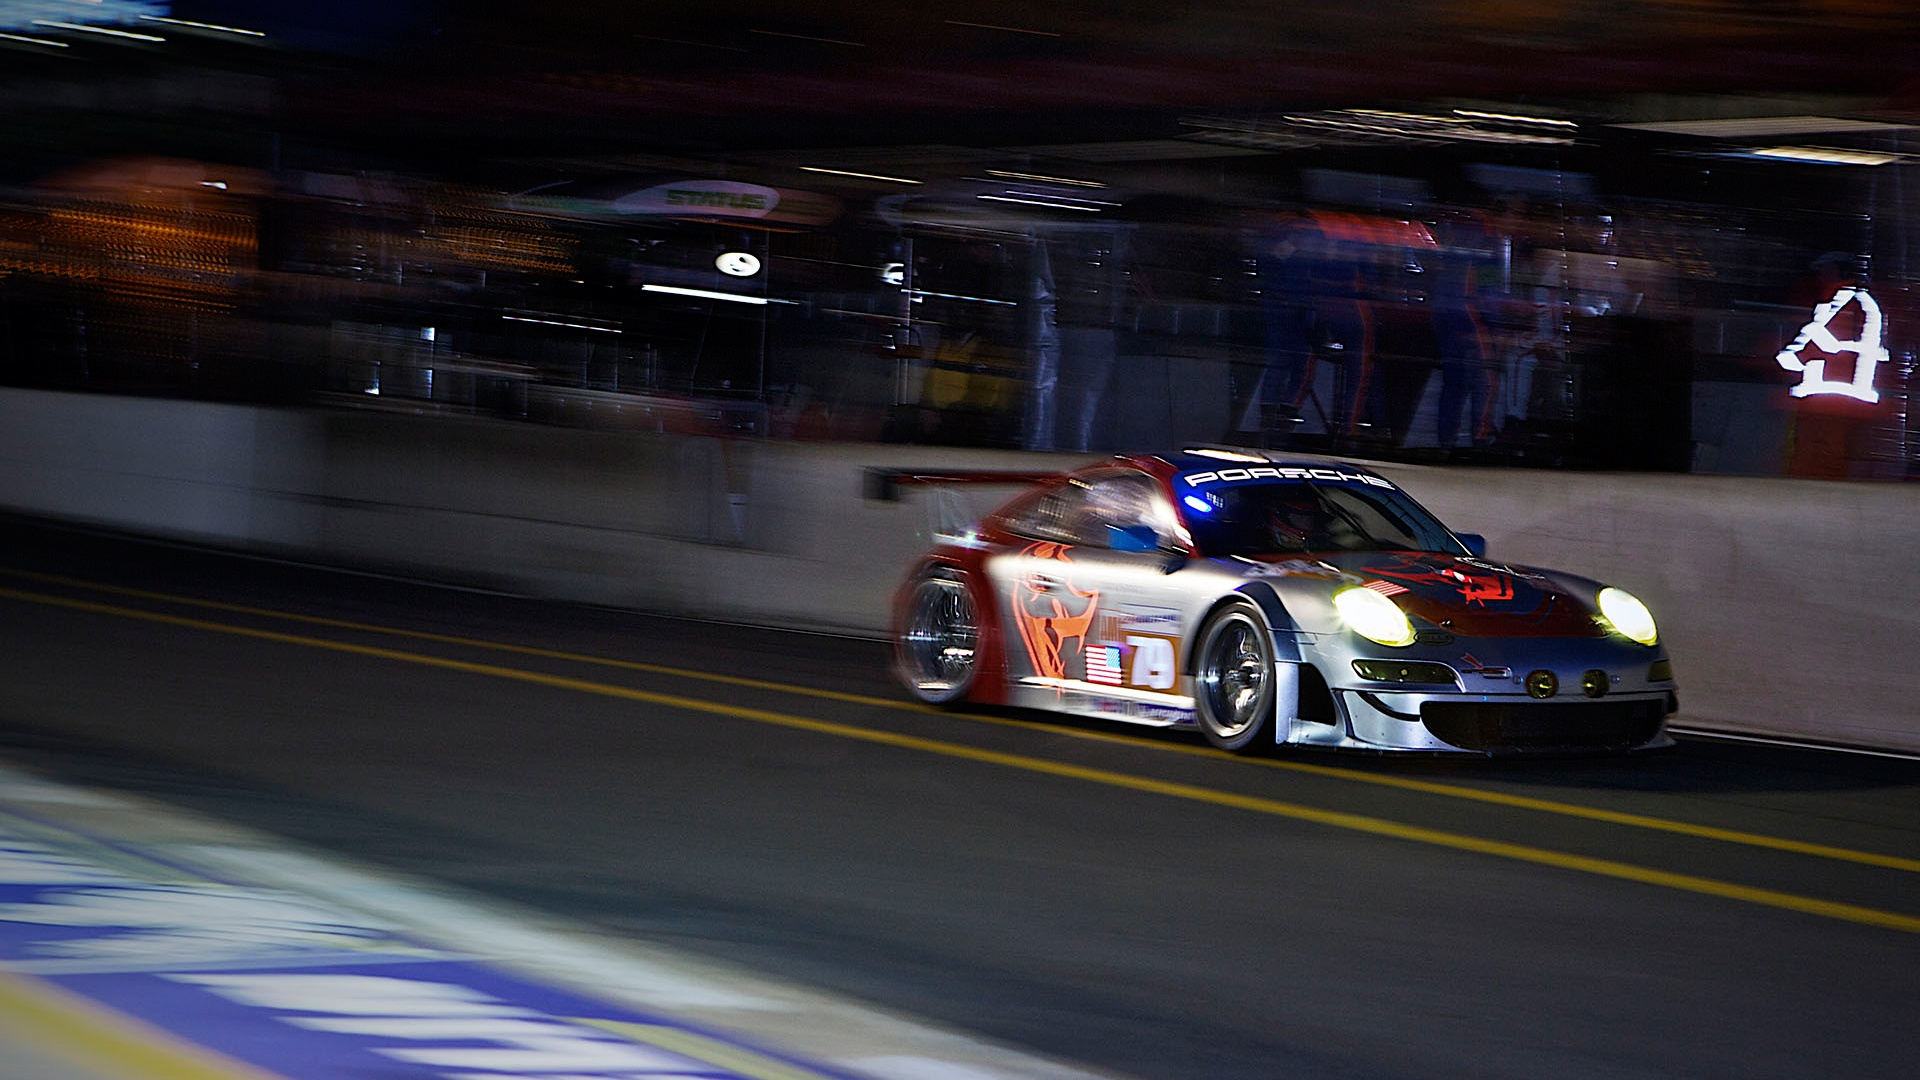racing car: (889, 436, 1688, 765)
